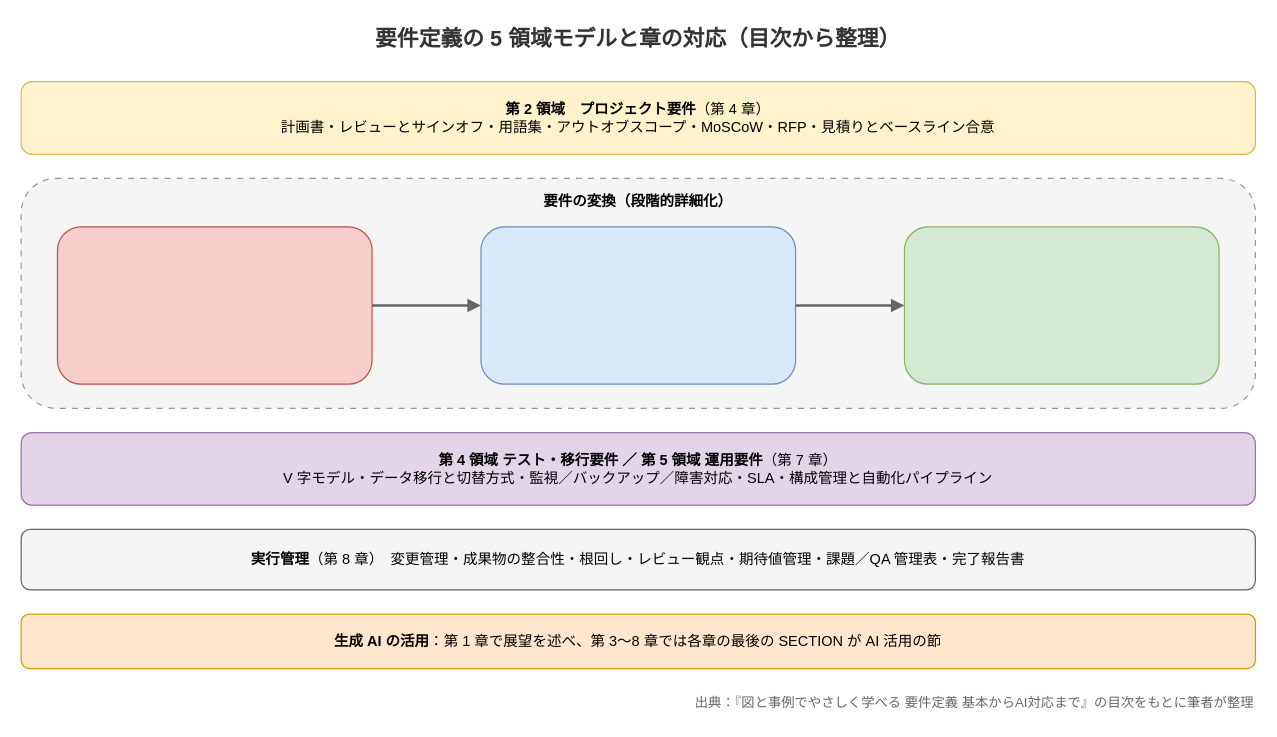
Image size: 1277x737. Some labels were removed from this diagram. Each missing label, with the box of its shape:
第 1 領域 ビジネス要件 （第 3 章） なぜ作るのか・KGI/KPI ロジックツリー・ペルソナ ステークホルダー: (56, 226, 372, 384)
第 3 領域① 業務要件 （第 5 章） As-Is / To-Be・ユースケース 異常系・業務ルール・状態遷移 主役はユーザー: (480, 226, 796, 384)
第 3 領域② システム要件（機能・非機能） （第 6 章） 機能一覧・データ構造と CRUD 画面・外部 IF・非機能の数値化 要件凍結と変更管理: (903, 226, 1219, 384)
